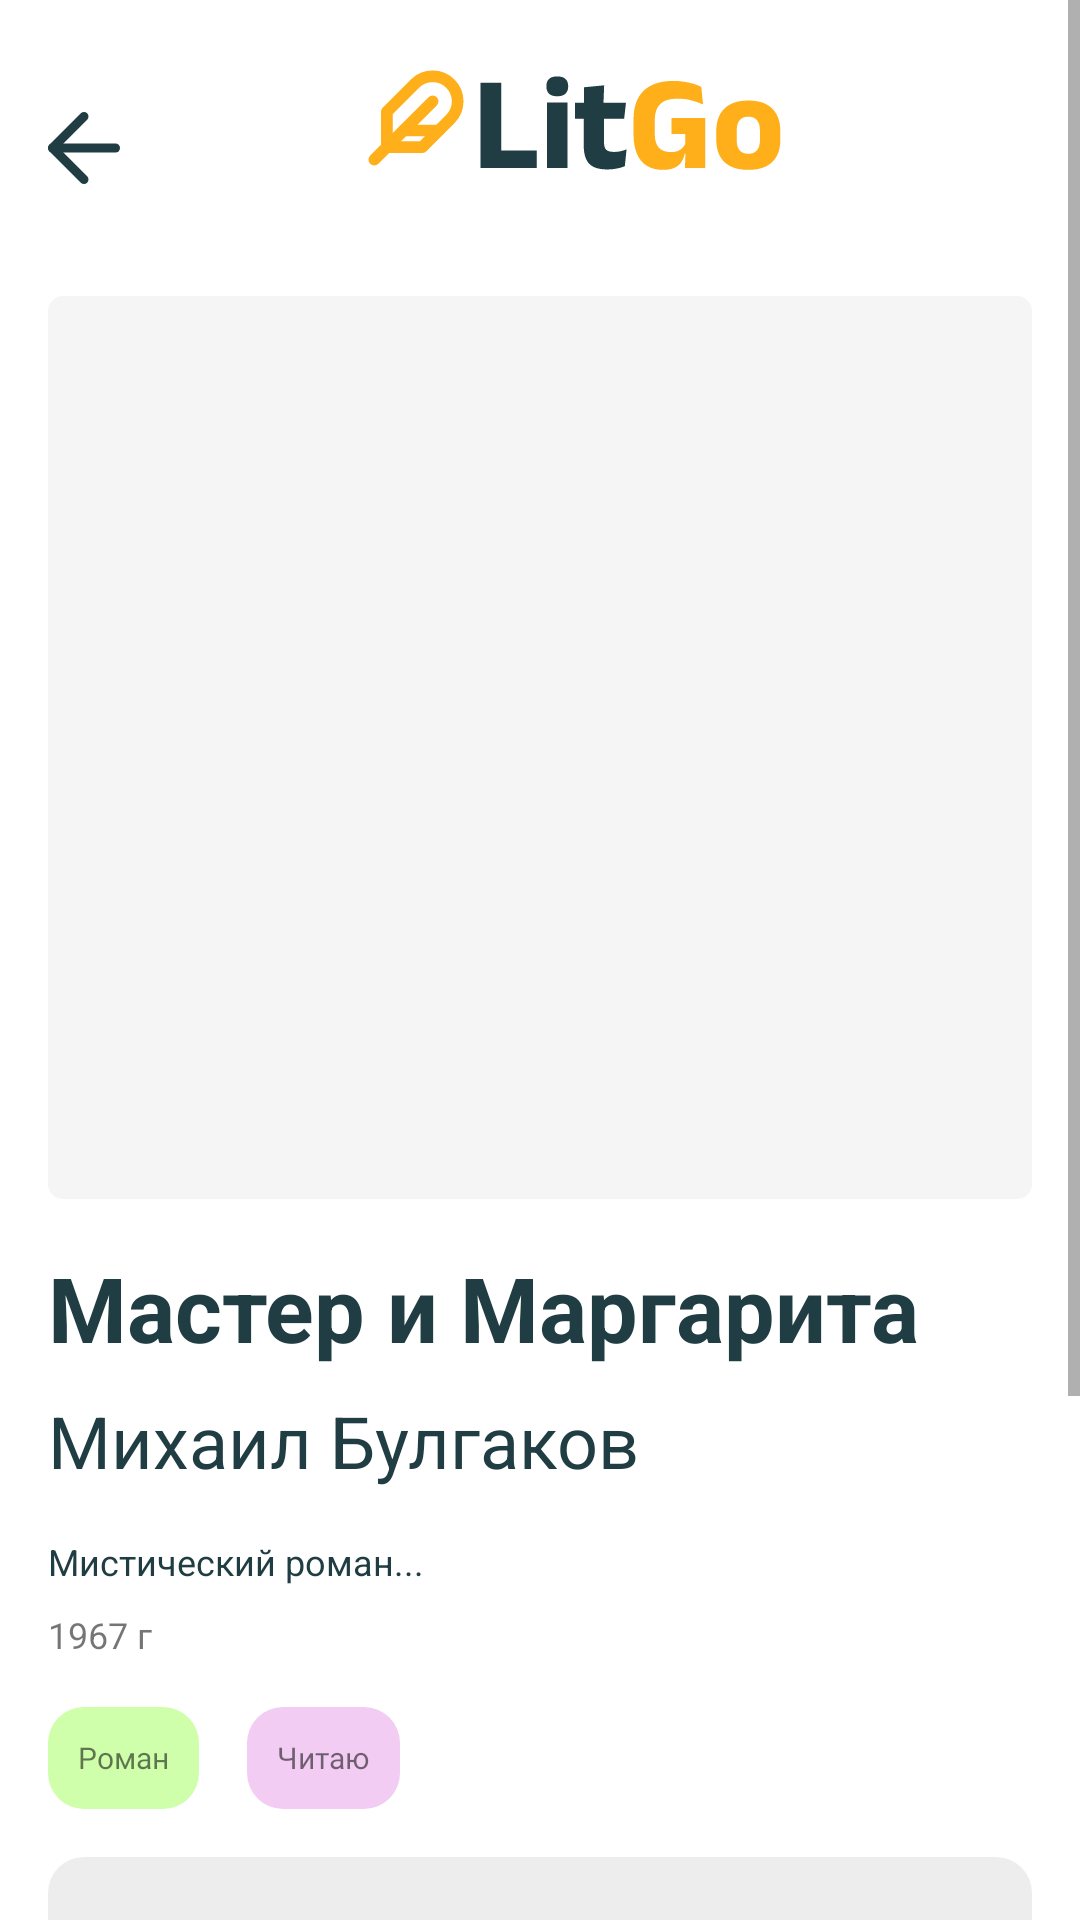

Named icons in this screenshot (1080×1920) and their centers, point (x, y):
Назад: point (84, 148)
